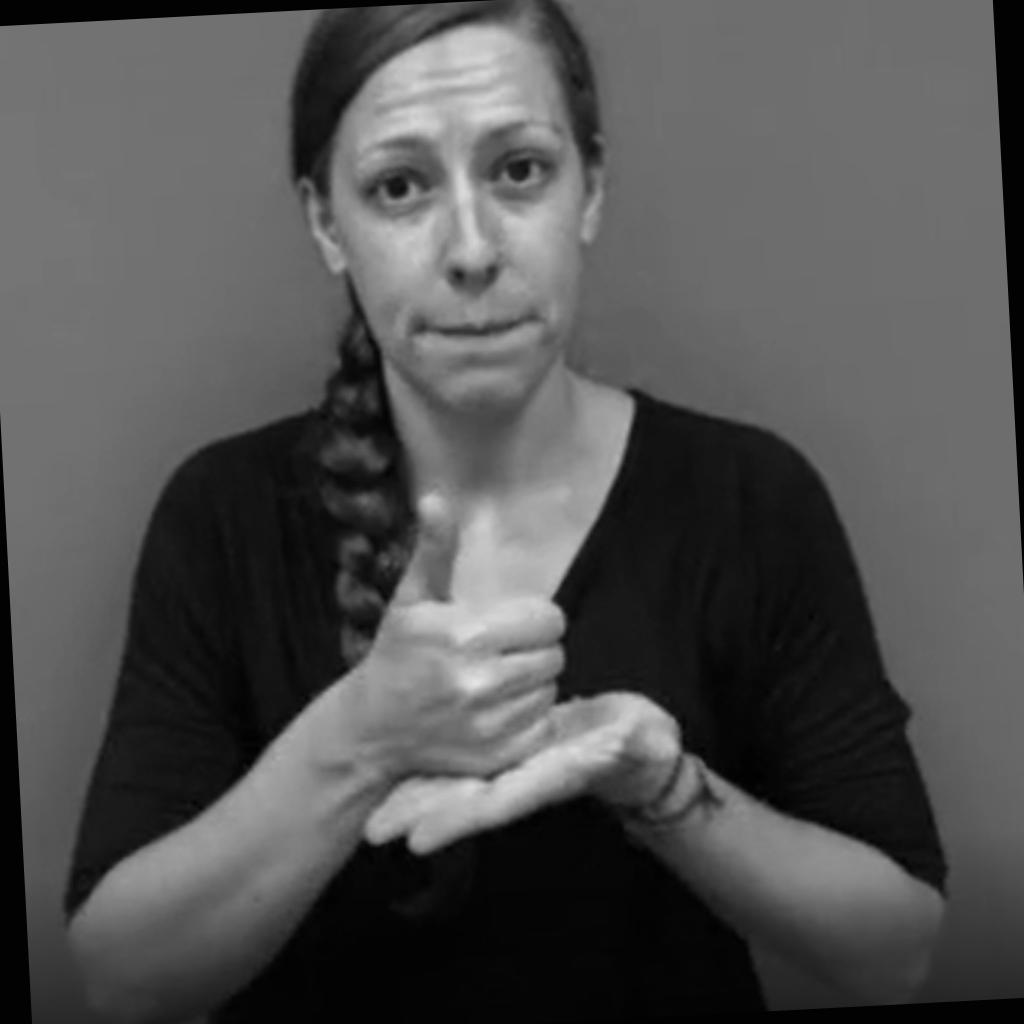help: (347, 483, 684, 857)
